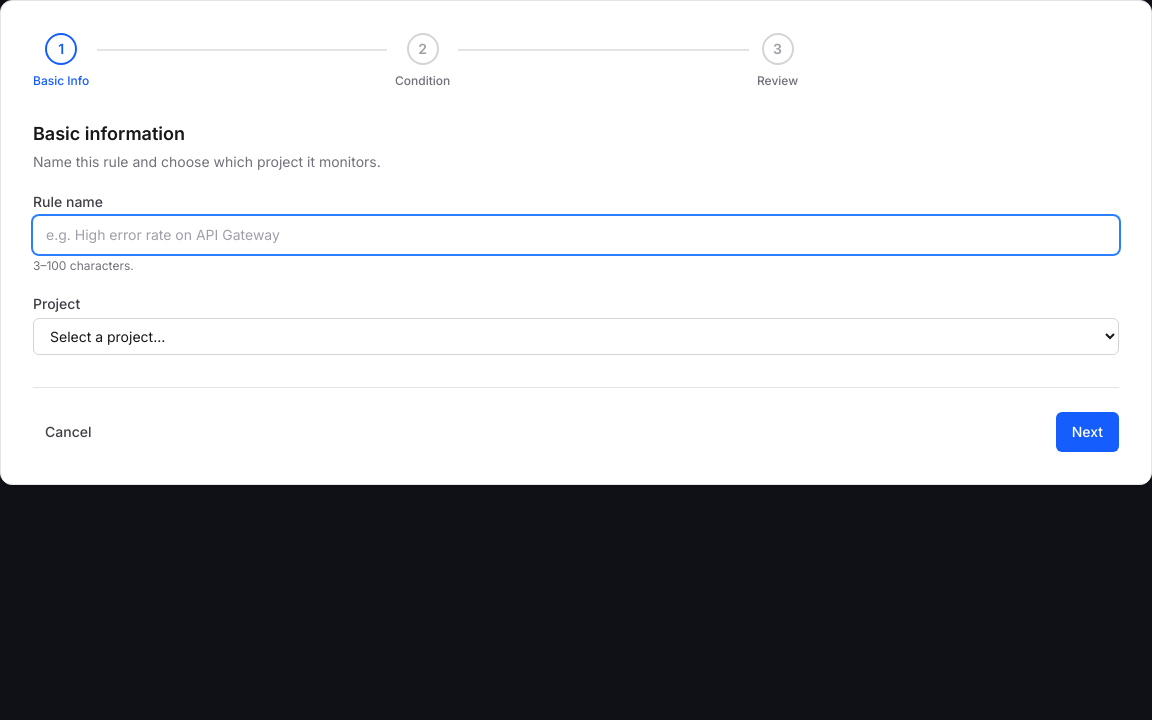
Test: AlertRuleBuilder — Step 1: Basic Info › blocks advancement when no project is selected
In the field labelled "Rule name": (576, 235) [33,216,1119,254], type "High error rate"
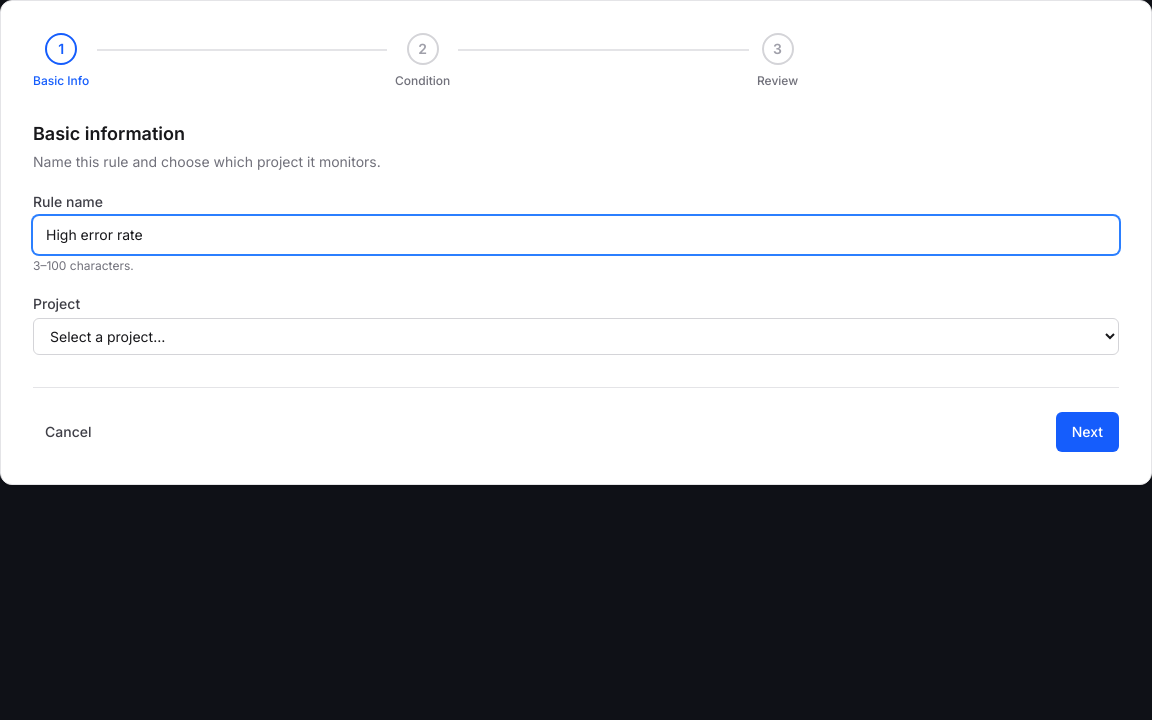
Click the button "Next": (1087, 432) [1056,412,1119,452]
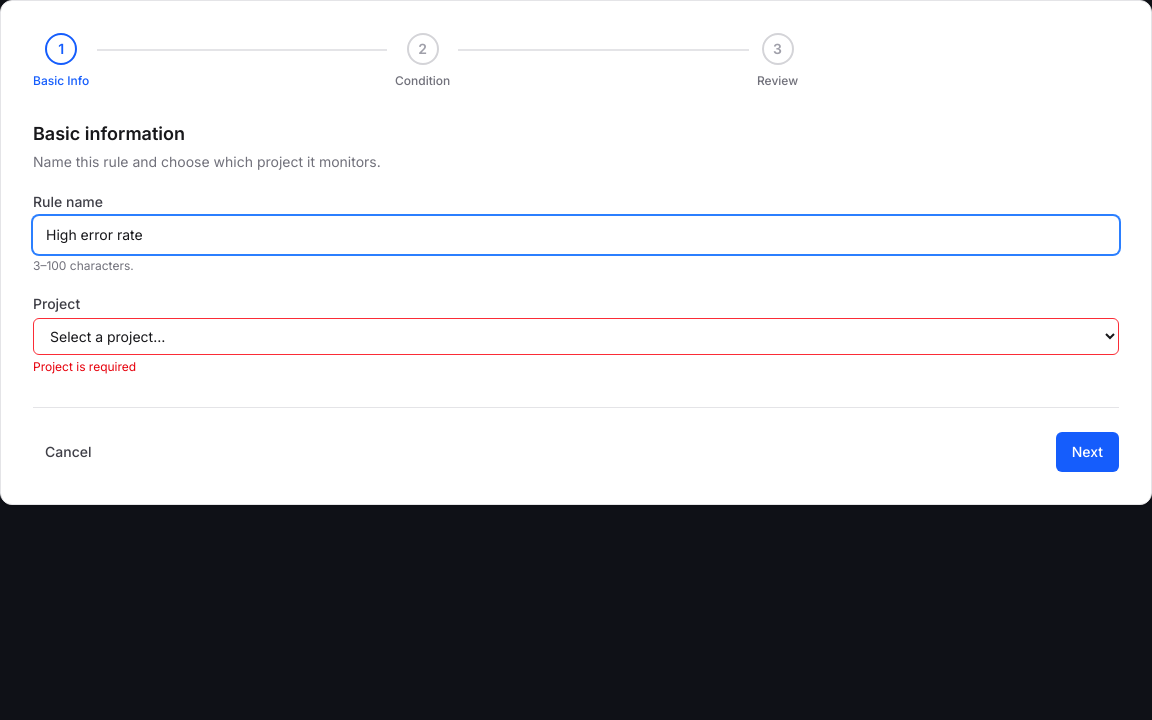
Check: the message "Project is required" is shown, box [33,359,136,374]
